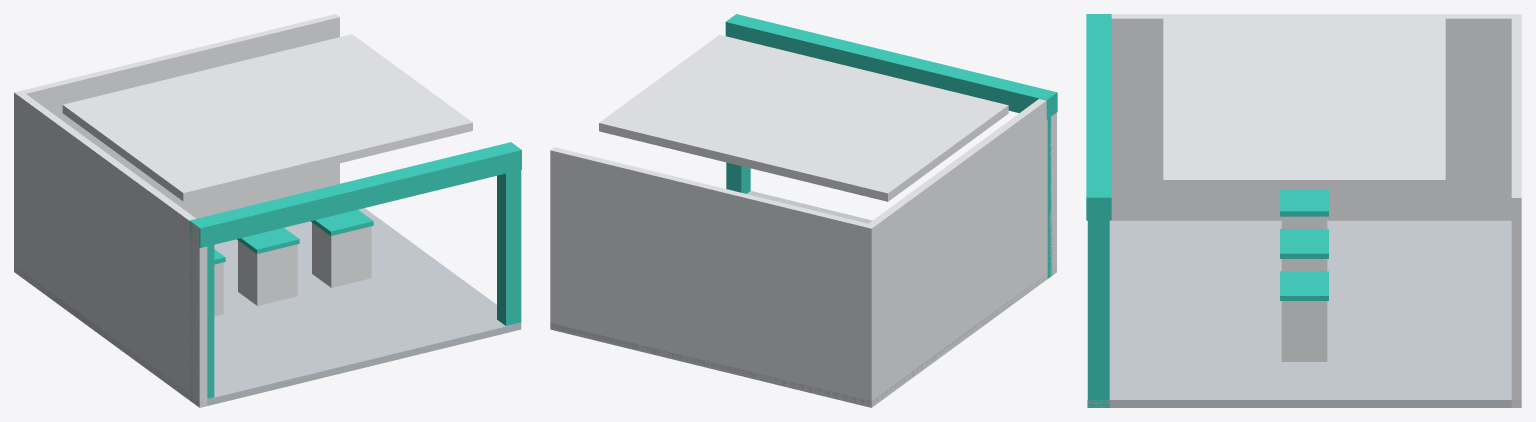
3 views of the same model, side by side, from view 1: azimuth 30°, elevation 25°; view 2: azimuth 150°, elevation 25°; view 3: azimuth 270°, elevation 25° (orthographic). The views are drawn at different scales.
Parts seen in each view (by area): view 1: Exhibition Booth Concept; view 2: Exhibition Booth Concept; view 3: Exhibition Booth Concept.
Part boxes in pixels (left/top/right/bottom): Exhibition Booth Concept: left=14, top=14, right=521, bottom=407; Exhibition Booth Concept: left=550, top=14, right=1057, bottom=407; Exhibition Booth Concept: left=1086, top=14, right=1521, bottom=407.
Bounding box in the file's own units: 6 × 3.34 × 6.02.
